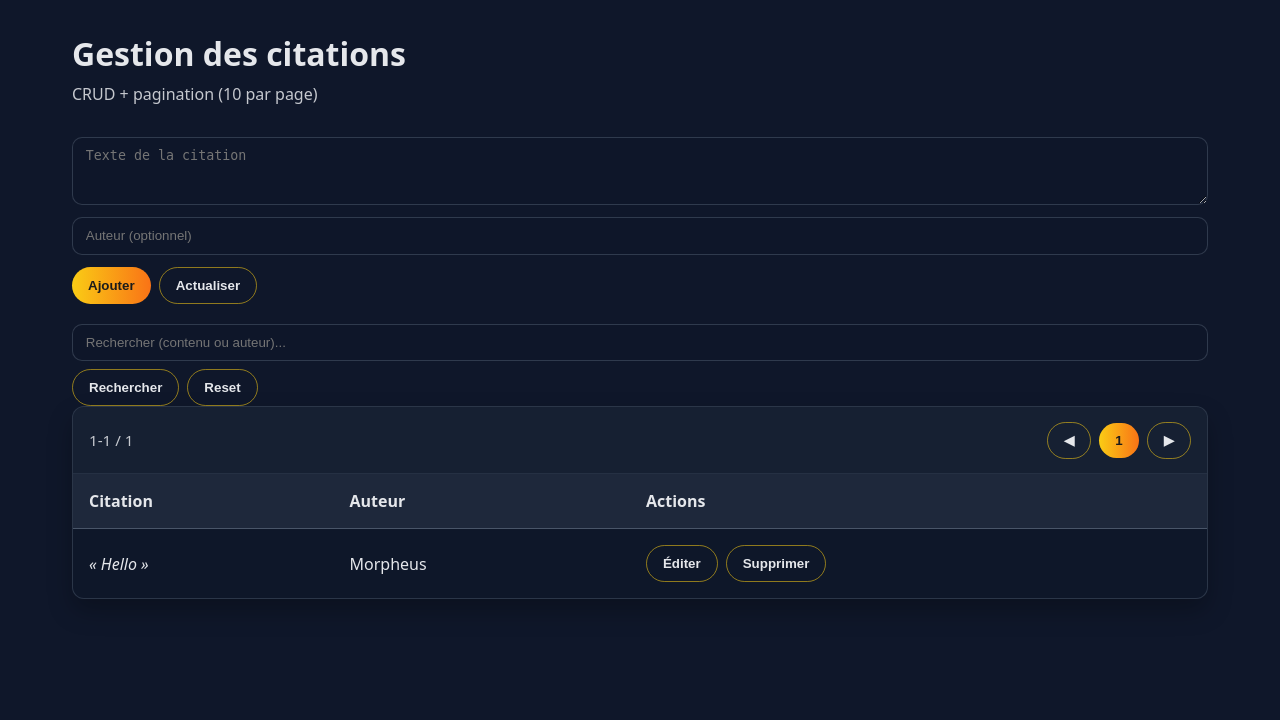
Test case: QuotesPanel › shows generic fallback messages for non-Error create, update, and delete failures
Expected: the button "Éditer" is shown, [646, 545, 718, 582]
Type "Hello" into the text box with placeholder "Texte de la citation".
click(640, 171); type("Hello")  # box [72, 137, 1208, 205]
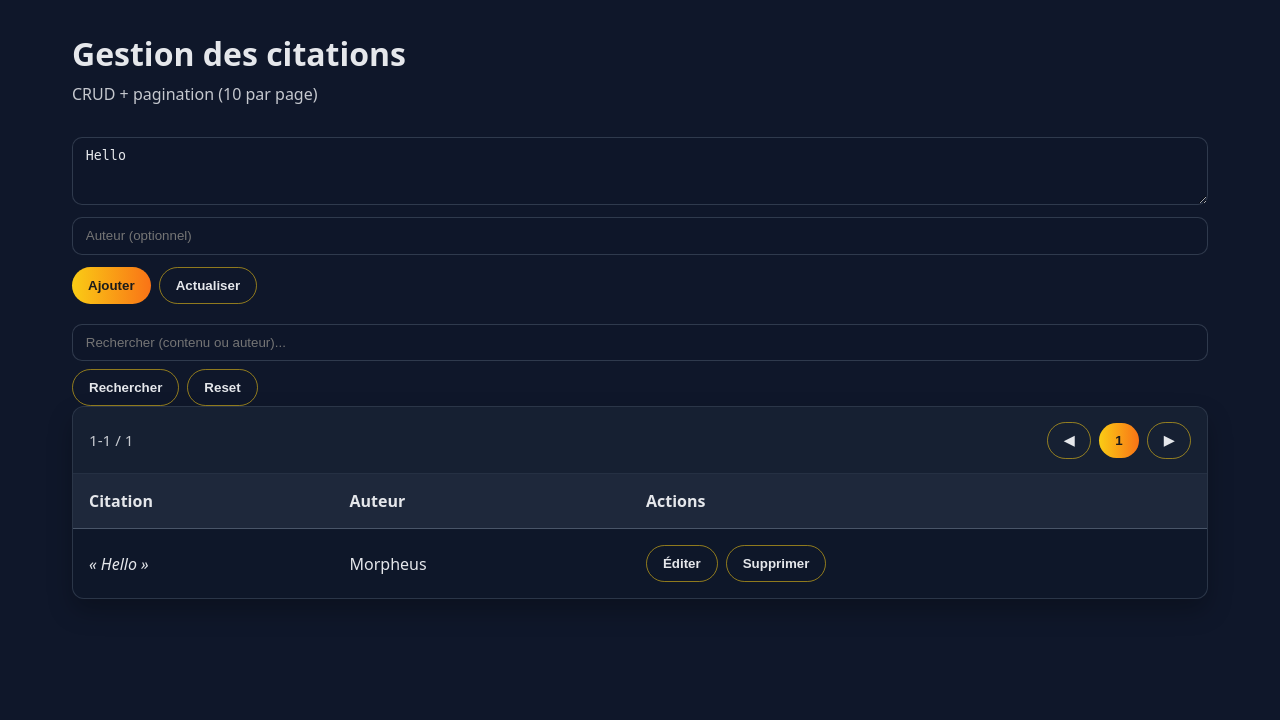
Click the button "Ajouter".
click(111, 285)  # box [72, 267, 151, 304]
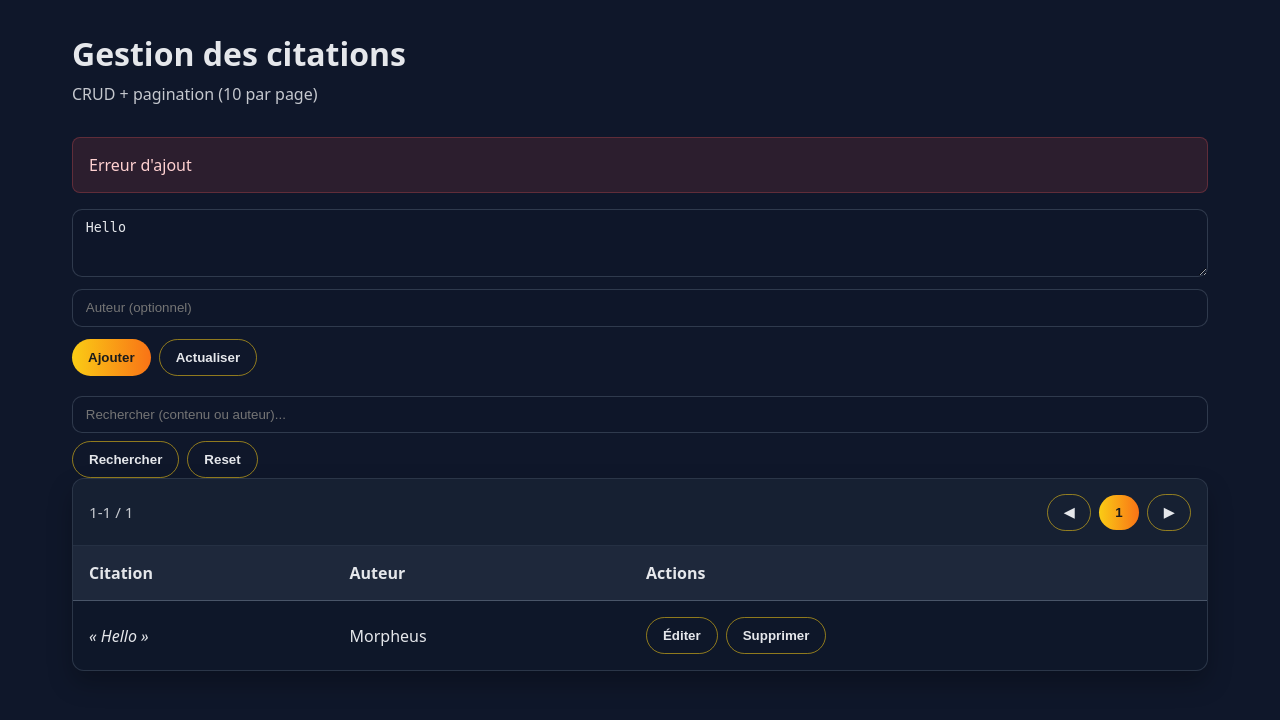
Expected: the text "Erreur d'ajout" is shown, [72, 137, 1208, 193]
Click the button "Supprimer".
click(776, 636)  # box [726, 617, 826, 654]
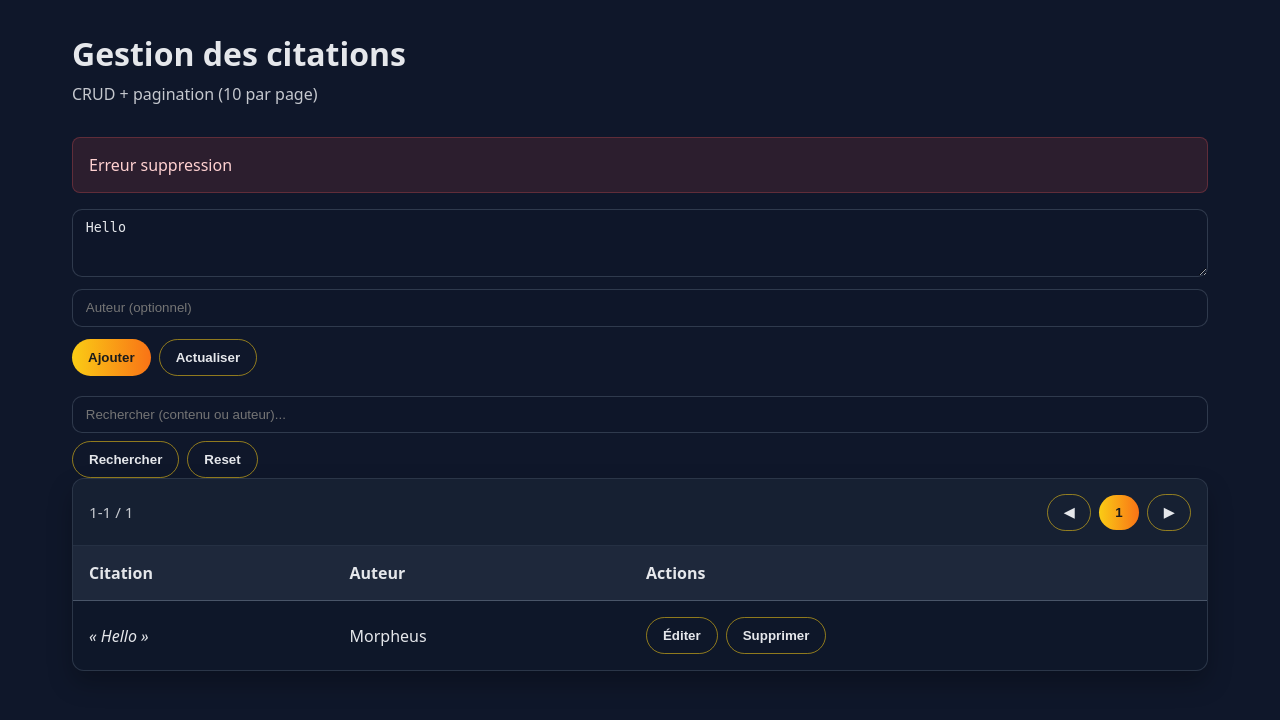
Expected: the text "Erreur suppression" is shown, [72, 137, 1208, 193]
Click the button "Éditer".
click(682, 636)  # box [646, 617, 718, 654]
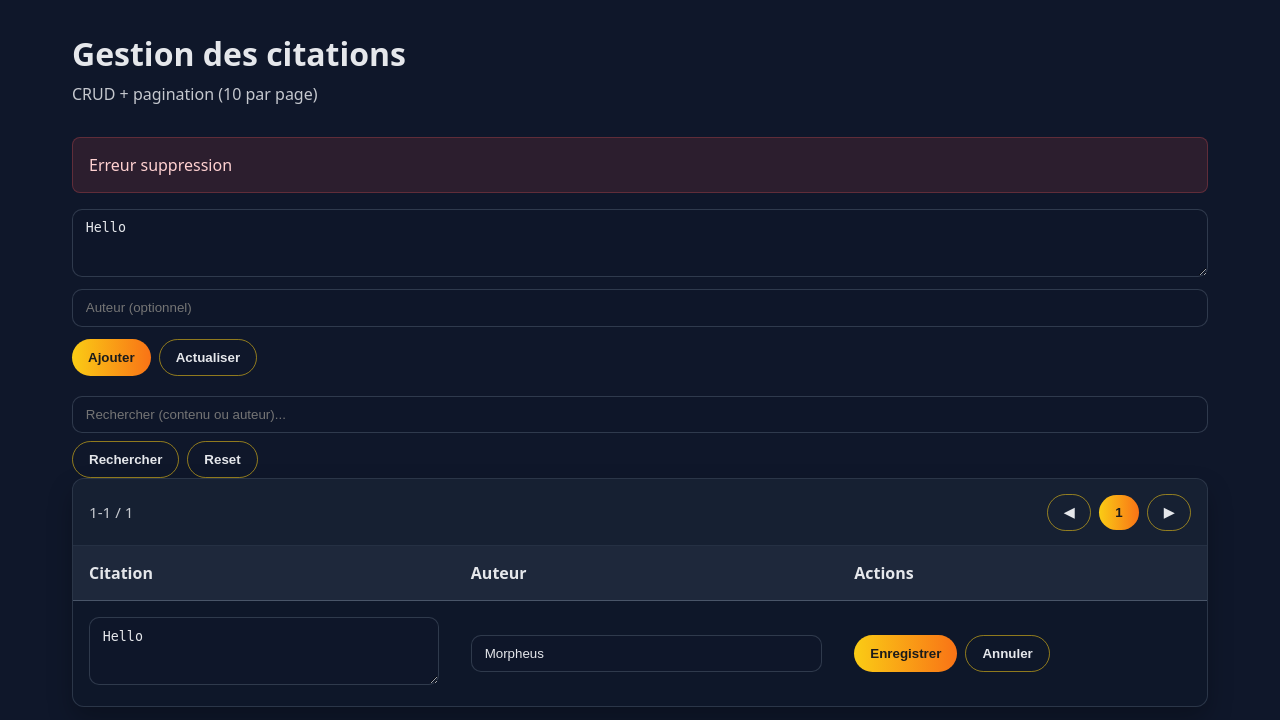
Click the button "Enregistrer".
click(906, 654)  # box [854, 635, 957, 672]
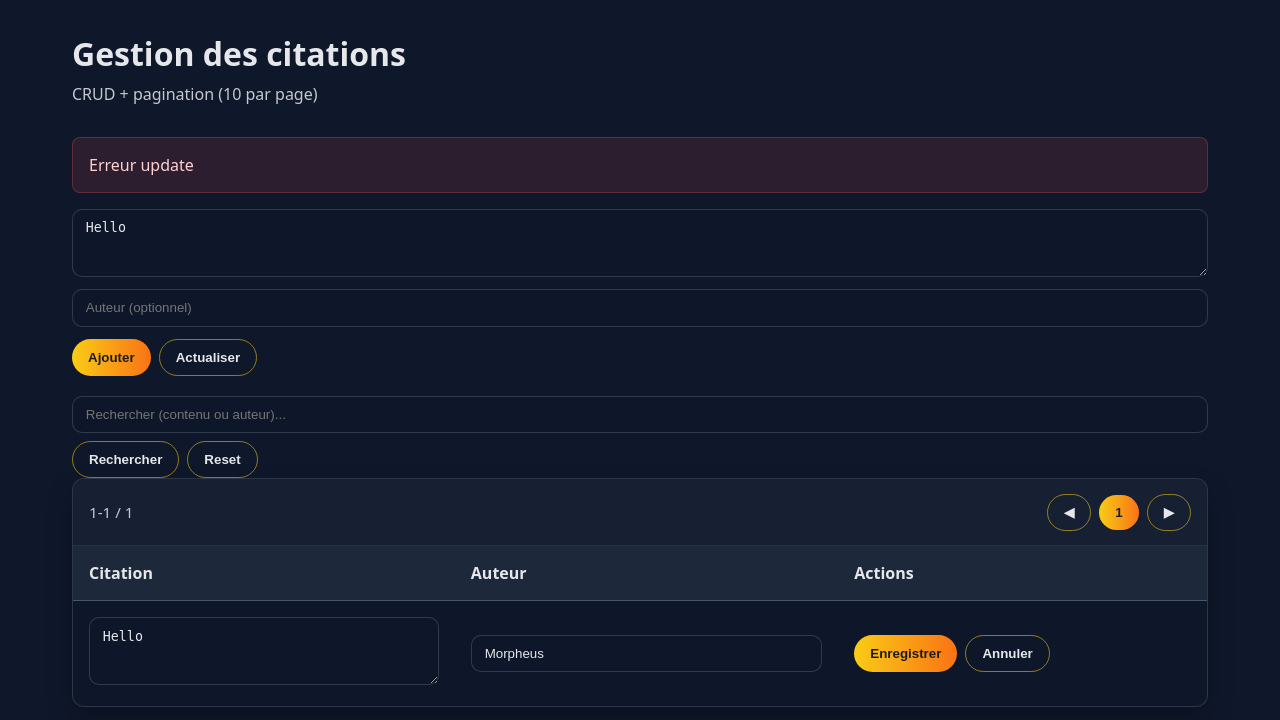
Expected: the text "Erreur update" is shown, [72, 137, 1208, 193]
